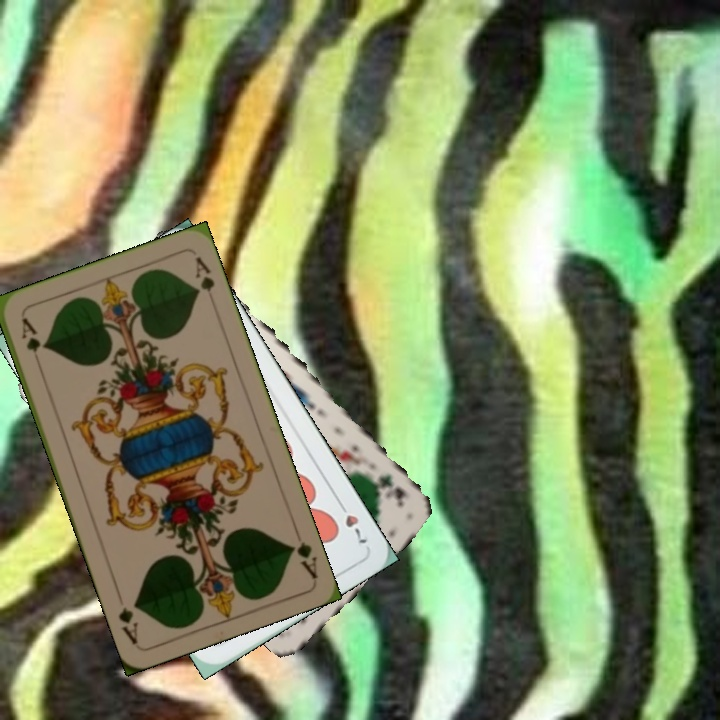GA: (285, 524, 320, 581), (17, 313, 44, 356)
GK: (374, 470, 411, 509)
H7: (333, 496, 371, 547)
